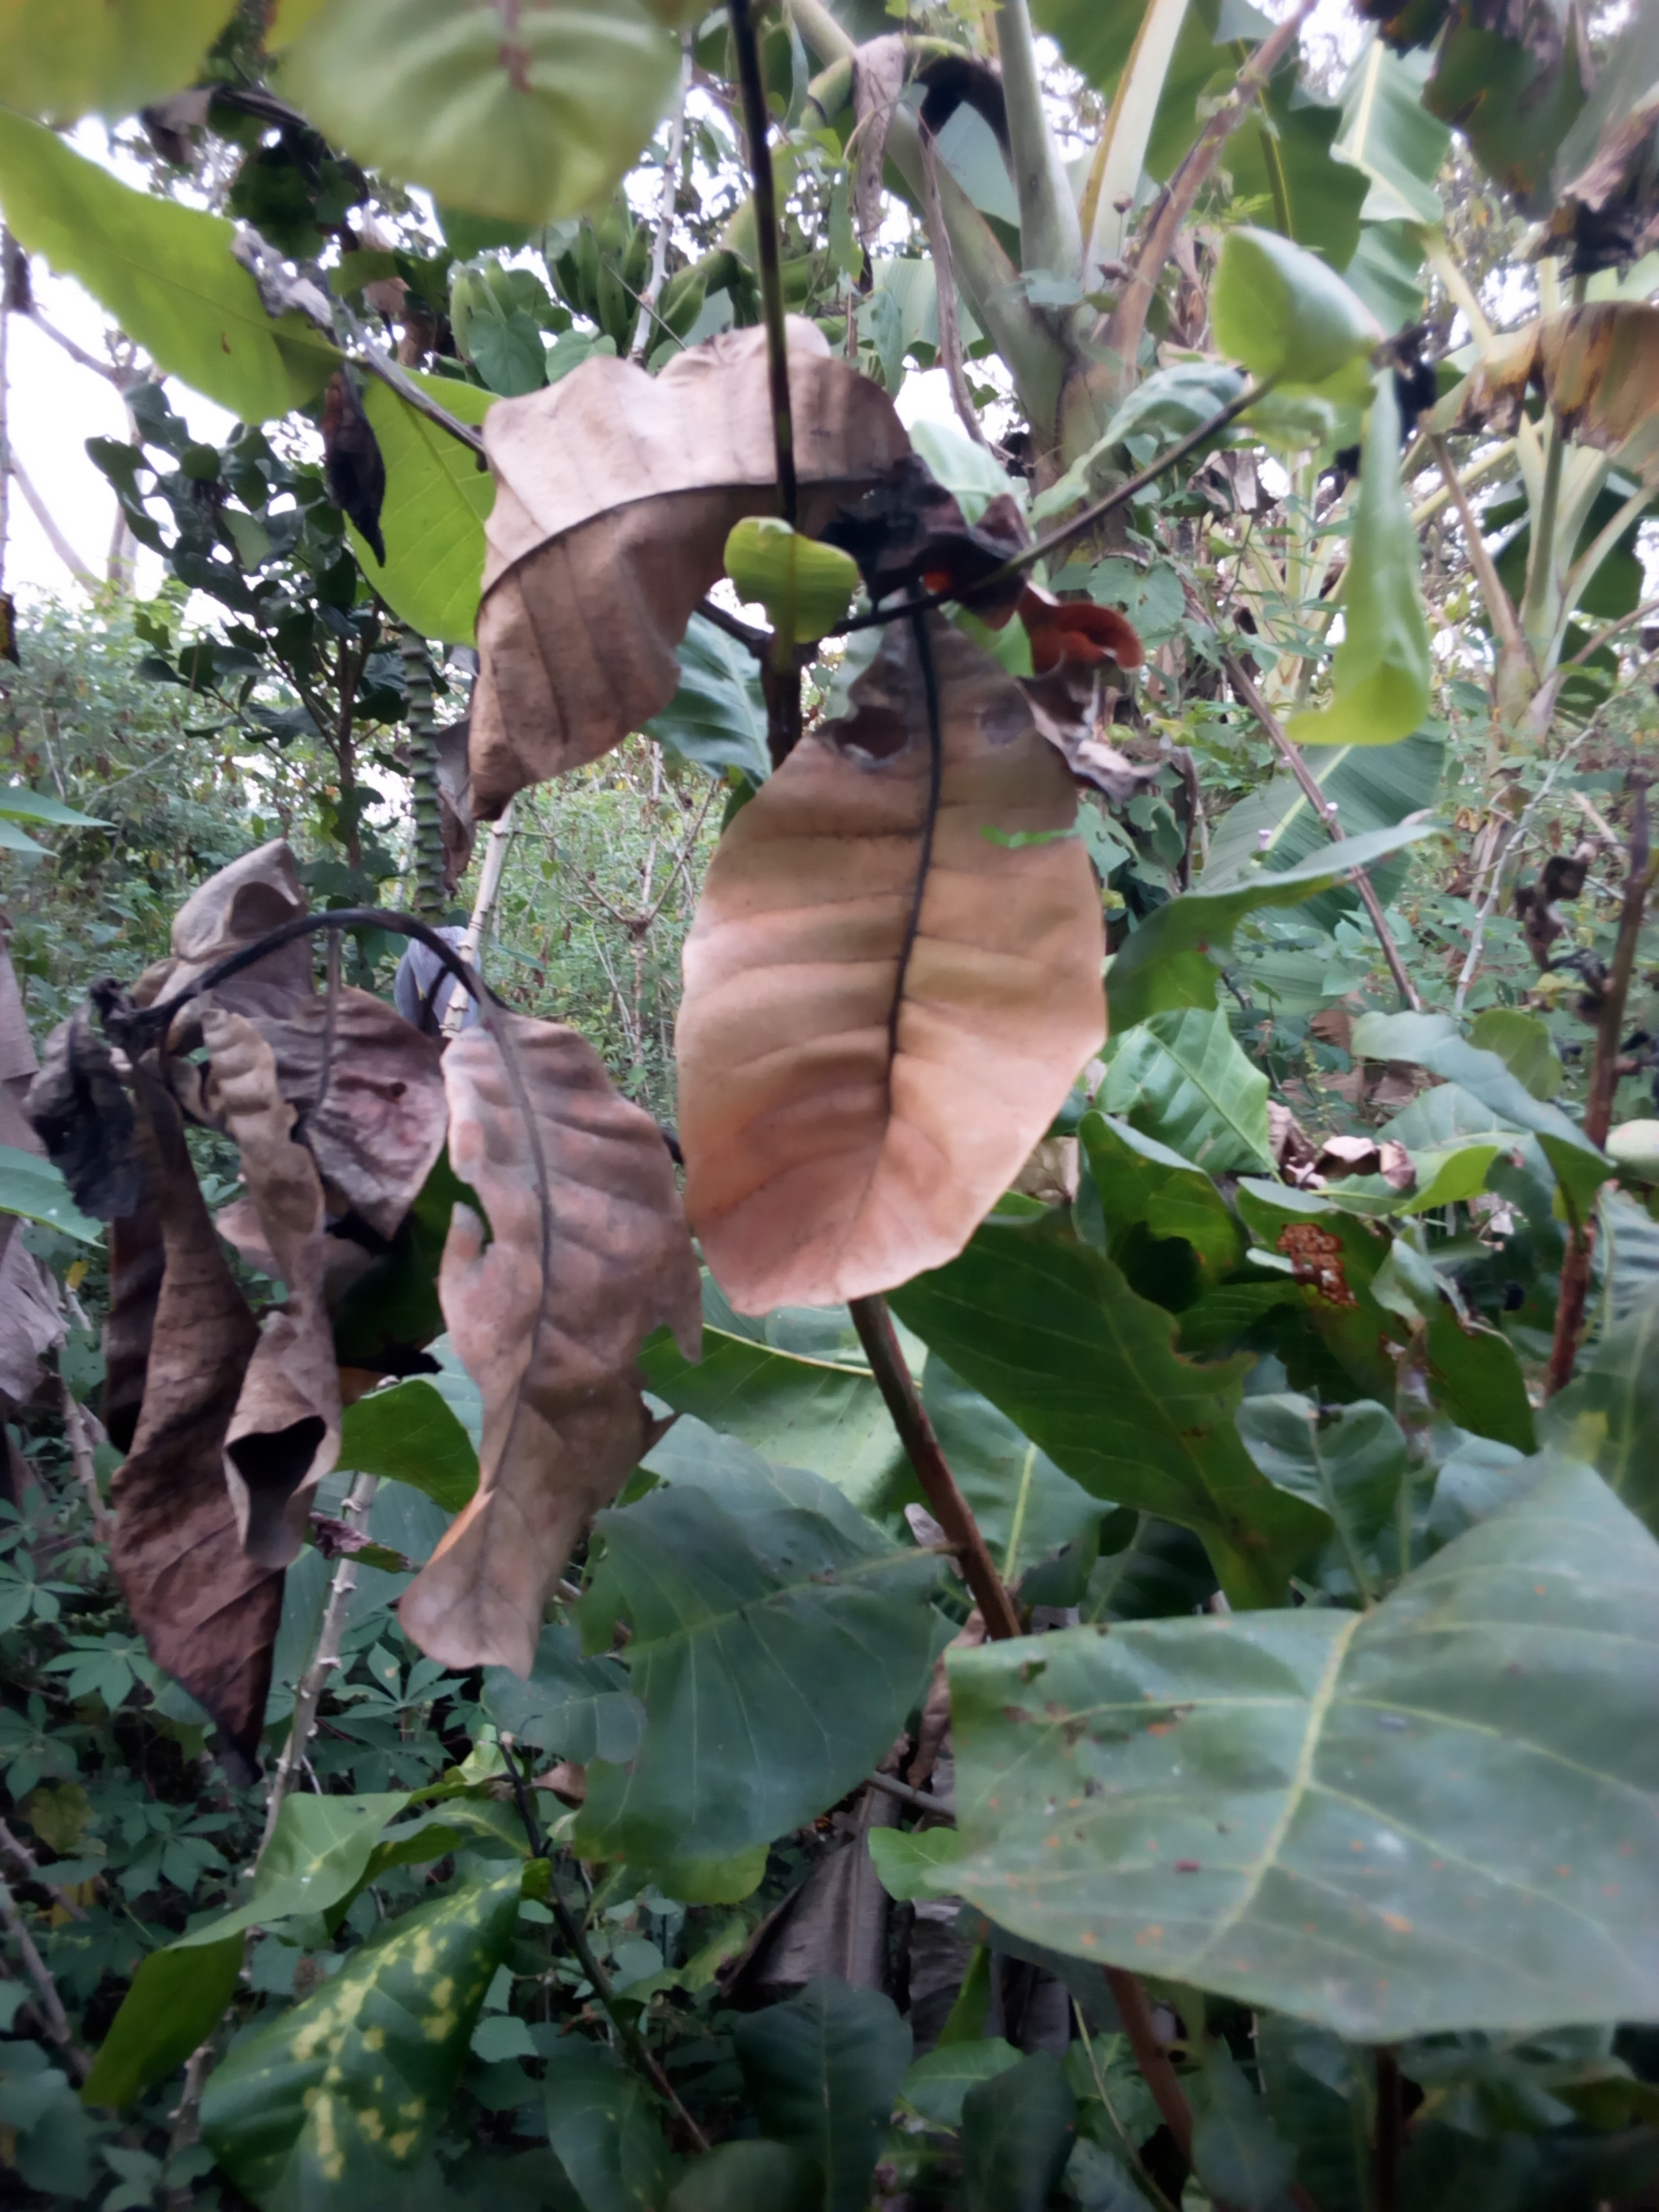Dessèchement des bourgeons: (61, 887, 298, 1693)
